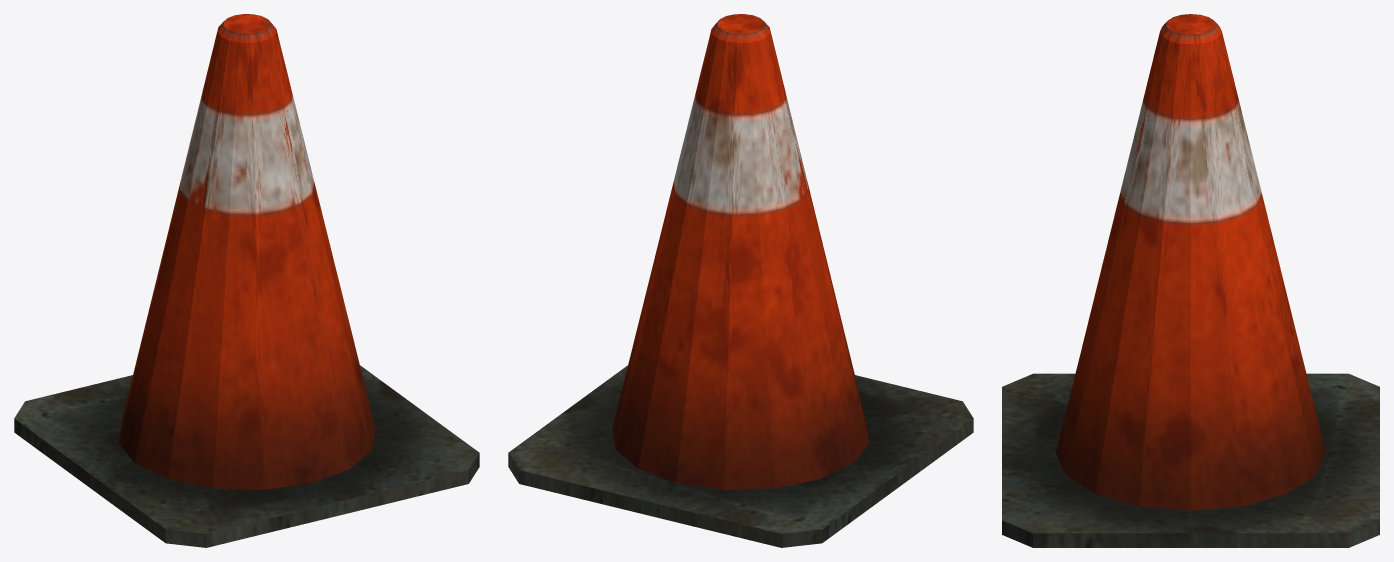
The model's file is TrafficCone.fbx.
The picture shows the model from 3 angles, left to right: view 1: azimuth 30°, elevation 25°; view 2: azimuth 150°, elevation 25°; view 3: azimuth 270°, elevation 25°; orthographic projection. The views are drawn at different scales.
Visible parts, largest first — view 1: Traffic Cone; view 2: Traffic Cone; view 3: Traffic Cone.
Boxes of the visible parts, x1,y1,x2,y2 form: Traffic Cone: (14, 14, 479, 547); Traffic Cone: (508, 14, 973, 547); Traffic Cone: (1002, 14, 1379, 547).
Size of the model in its own units: 2630 by 3406 by 2630.
1 material, 1 textured.
